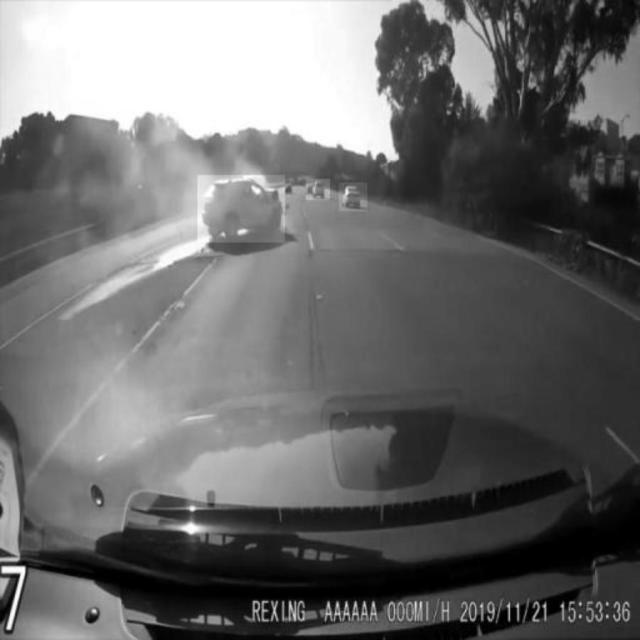vehicle: (197, 175, 285, 243), (339, 183, 367, 211), (306, 179, 330, 199)
